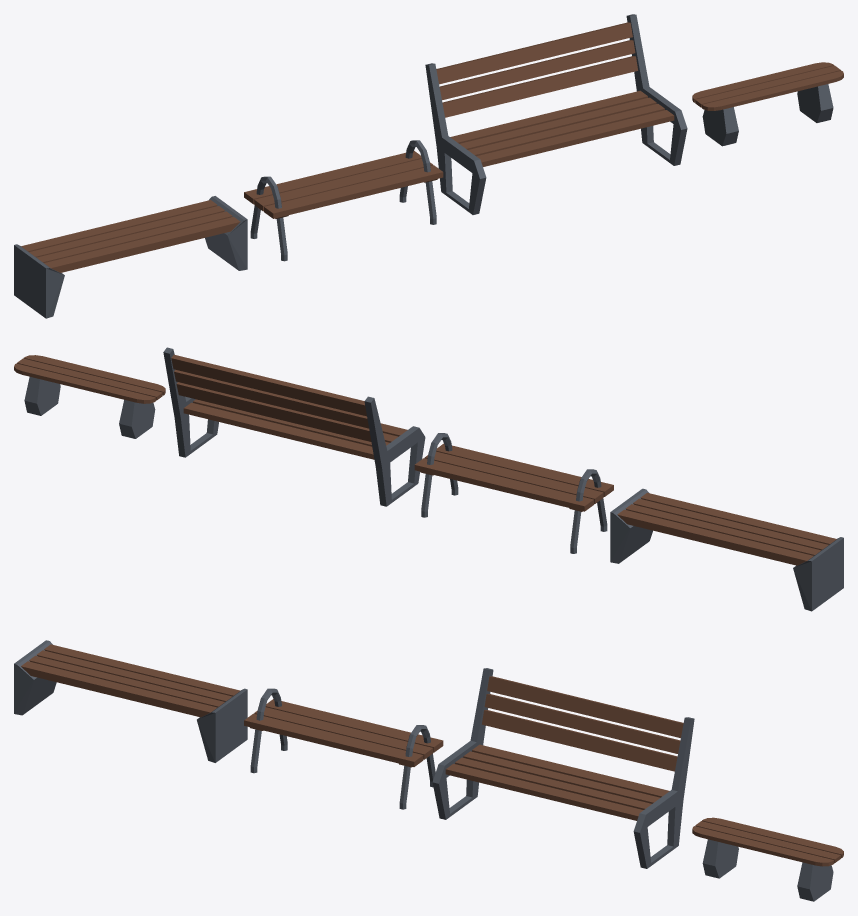
File: FancyBench.fbx
3 views of the same model, one above another, from view 1: azimuth 30°, elevation 25°; view 2: azimuth 150°, elevation 25°; view 3: azimuth 330°, elevation 25° (orthographic).
Visible parts, largest first — view 1: FancyBench; view 2: FancyBench; view 3: FancyBench.
Boxes of the visible parts, x1,y1,x2,y2 form: FancyBench: (14, 14, 843, 318); FancyBench: (14, 347, 843, 611); FancyBench: (14, 640, 843, 901).
Bounding box in the file's own units: 830 × 116 × 97.17.
